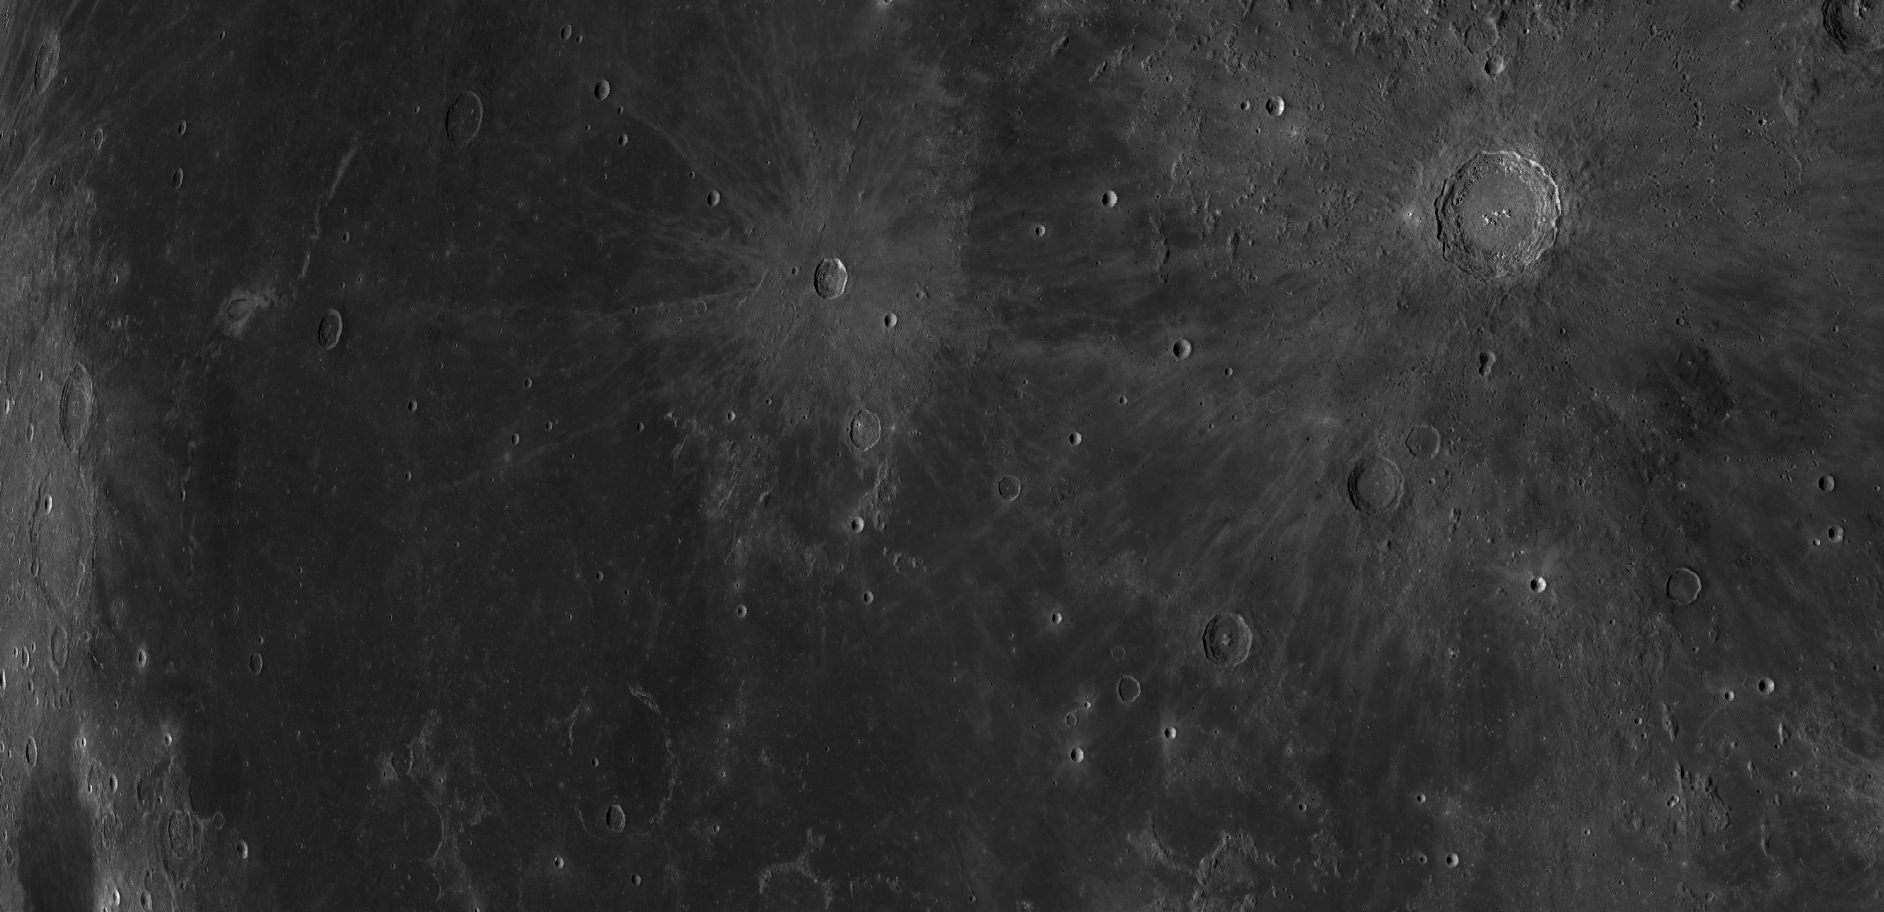crater: (627, 73, 991, 488), (1346, 52, 1650, 324), (20, 298, 150, 457), (1278, 437, 1412, 570), (410, 44, 524, 185), (302, 281, 431, 398), (1158, 588, 1275, 693), (1035, 726, 1138, 795), (1783, 433, 1865, 518), (1135, 315, 1203, 377), (597, 785, 650, 847), (1751, 662, 1785, 703)
